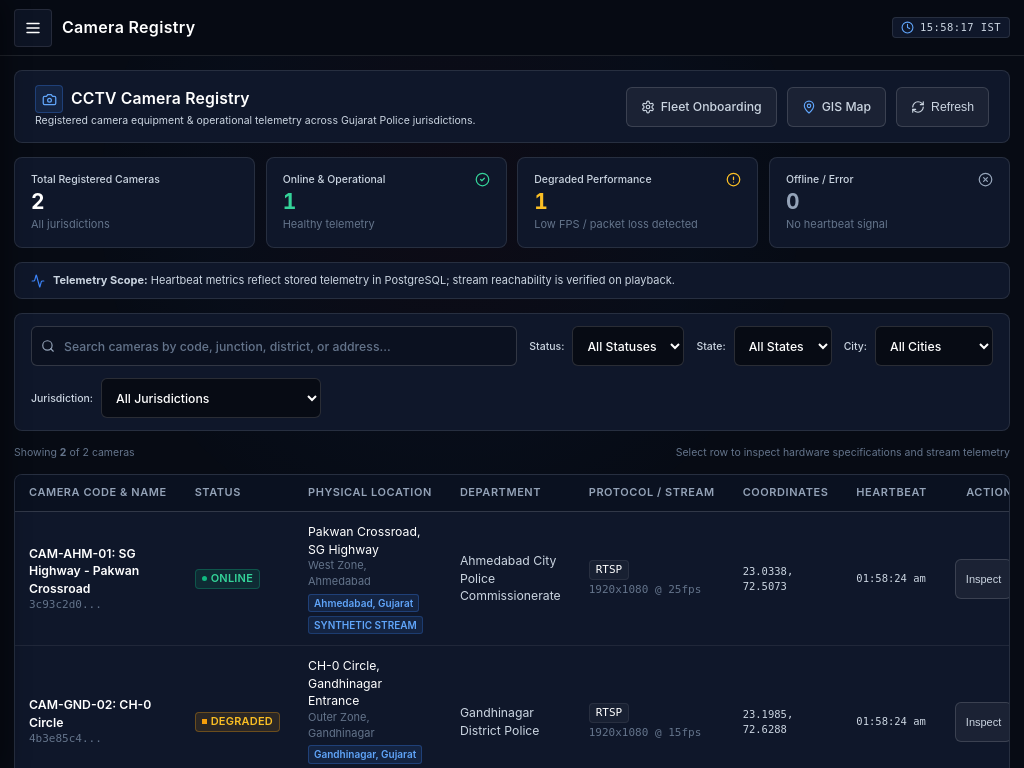
Scenario: Camera Registry UI Component (Phase 4B) › filters cameras by UUID search
Expected: the text "CAM-AHM-01: SG Highway - Pakwan Crossroad" is shown, [29, 546, 139, 596]
# Search by partial UUID of CAM-AHM-01
Type "3c93c2d0" into the field named "Search camera registry".
click(274, 346); type("3c93c2d0")  # box [31, 326, 517, 366]
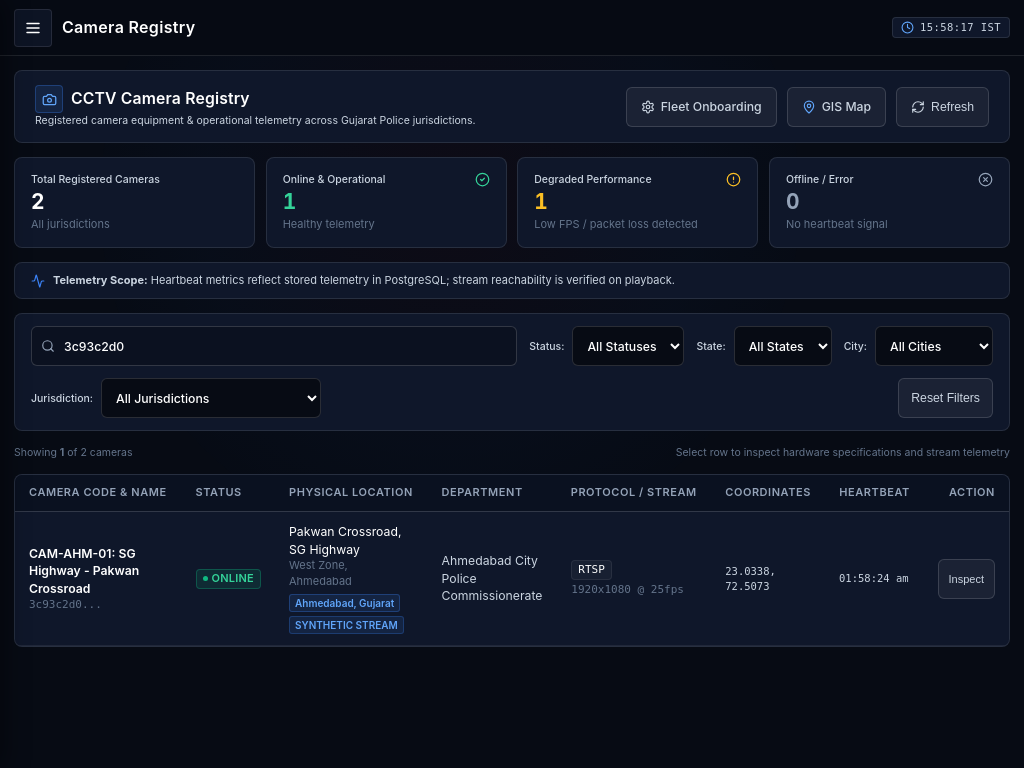
Expected: the text "CAM-AHM-01: SG Highway - Pakwan Crossroad" is shown, [29, 546, 139, 596]
Now the text "CAM-GND-02: CH-0 Circle" is gone
